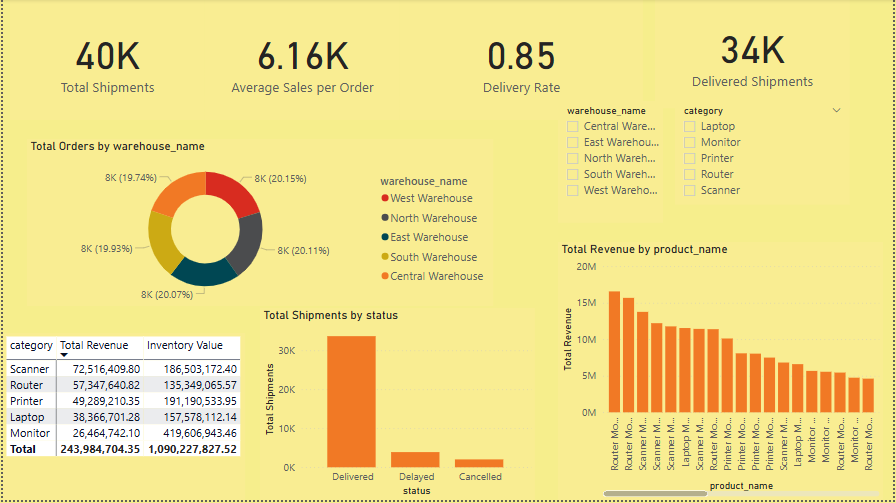

This screenshot's page, from the dashboard's own definition file:
{"tool":"powerbi","page":{"name":"Operational Insights","canvas":[1280,720],"ordinal":3},"visuals":[{"type":"card","fields":{"Values":["MEASURE.Total Shipments"]},"box":[10.1,0,280.2,173.9],"z":0},{"type":"card","fields":{"Values":["MEASURE.Average Sales per Order"]},"box":[290.3,0,280.2,173.9],"z":1000},{"type":"card","fields":{"Values":["MEASURE.Delivery Rate"]},"box":[570.5,0,349.2,173.9],"z":2000},{"type":"card","fields":{"Values":["MEASURE.Delivered Shipments"]},"box":[937,0,280.2,156.6],"z":3000},{"type":"donutChart","fields":{"Category":["dim_warehouse.warehouse_name"],"Y":["MEASURE.Total Orders"]},"box":[34.5,201.2,669.7,240],"z":4000},{"type":"lineClusteredColumnComboChart","fields":{"Category":["fact_shipments.status"],"Y":["MEASURE.Total Shipments"]},"box":[369.3,444.1,395.2,275.9],"z":5000},{"type":"lineClusteredColumnComboChart","fields":{"Category":["dim_product.product_name"],"Y":["MEASURE.Total Revenue"]},"box":[797.6,349.2,467.1,370.8],"z":6000},{"type":"pivotTable","fields":{"Rows":["dim_product.category"],"Values":["MEASURE.Total Revenue","MEASURE.Inventory Value"]},"box":[0,480,347.8,240],"z":7000},{"type":"slicer","fields":{"Values":["dim_warehouse.warehouse_name"]},"box":[797.6,146.6,150.9,175.3],"z":8000},{"type":"slicer","fields":{"Values":["dim_product.category"]},"box":[965.7,146.6,251.5,149.5],"z":9000}]}

Visuals, with their boxes in screenshot pixels (x1, y1, x2, y2), scaled from the page's 1280x720 canvas onto the 896x503 screenshot:
card - MEASURE.Total Shipments: (left=7, top=0, right=203, bottom=121)
card - MEASURE.Average Sales per Order: (left=203, top=0, right=399, bottom=121)
card - MEASURE.Delivery Rate: (left=399, top=0, right=644, bottom=121)
card - MEASURE.Delivered Shipments: (left=656, top=0, right=852, bottom=109)
donutChart - dim_warehouse.warehouse_name x MEASURE.Total Orders: (left=24, top=141, right=493, bottom=308)
lineClusteredColumnComboChart - fact_shipments.status x MEASURE.Total Shipments: (left=259, top=310, right=535, bottom=502)
lineClusteredColumnComboChart - dim_product.product_name x MEASURE.Total Revenue: (left=558, top=244, right=885, bottom=502)
pivotTable - dim_product.category x MEASURE.Total Revenue: (left=0, top=335, right=243, bottom=502)
slicer - dim_warehouse.warehouse_name: (left=558, top=102, right=664, bottom=225)
slicer - dim_product.category: (left=676, top=102, right=852, bottom=207)
